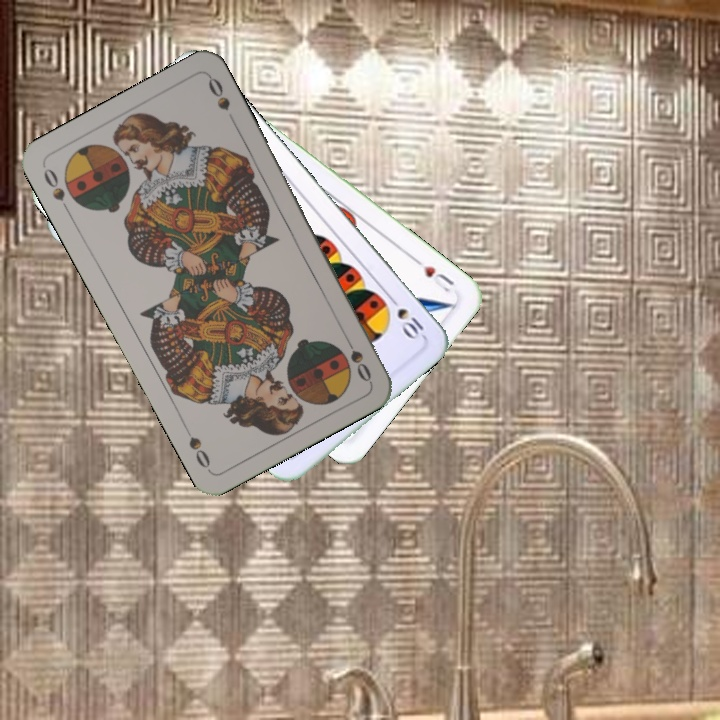HU: (410, 254, 457, 295)
S10: (384, 291, 427, 343)
SO: (339, 330, 374, 385), (39, 164, 74, 217)
